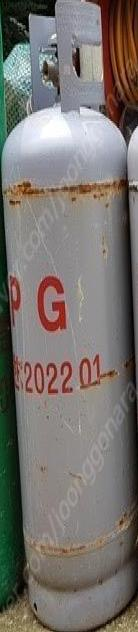cylinder: (0, 1, 138, 632)
